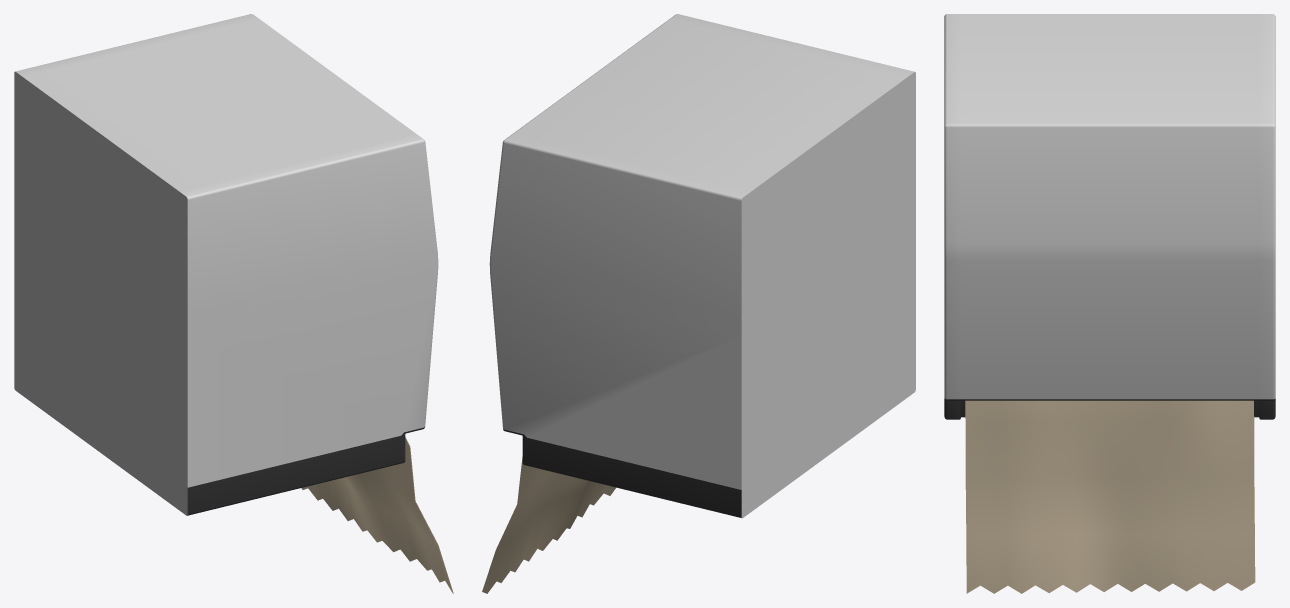
File: paper_towel_dispenser.glb
3 views of the same model, side by side, from view 1: azimuth 30°, elevation 25°; view 2: azimuth 150°, elevation 25°; view 3: azimuth 270°, elevation 25° (orthographic). The views are drawn at different scales.
Visible parts, largest first — view 1: Paper Towel Dispenser, Paper Towel; view 2: Paper Towel Dispenser, Paper Towel; view 3: Paper Towel Dispenser, Paper Towel.
Part boxes in pixels (box(x1,y1,x2,y2)): Paper Towel Dispenser: box(14, 14, 438, 515); Paper Towel: box(301, 437, 453, 593); Paper Towel Dispenser: box(489, 14, 915, 518); Paper Towel: box(482, 457, 615, 593); Paper Towel Dispenser: box(944, 14, 1275, 419); Paper Towel: box(965, 400, 1255, 593).
Bounding box in the file's own units: 1.87 × 3.01 × 2.
